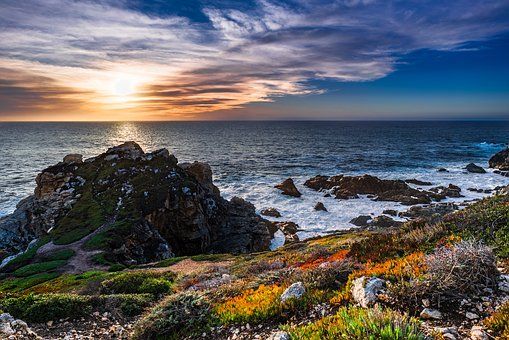mountain: (74, 210, 505, 337)
sea: (5, 122, 509, 238)
sky: (3, 5, 509, 119)
stone: (23, 155, 274, 273)
